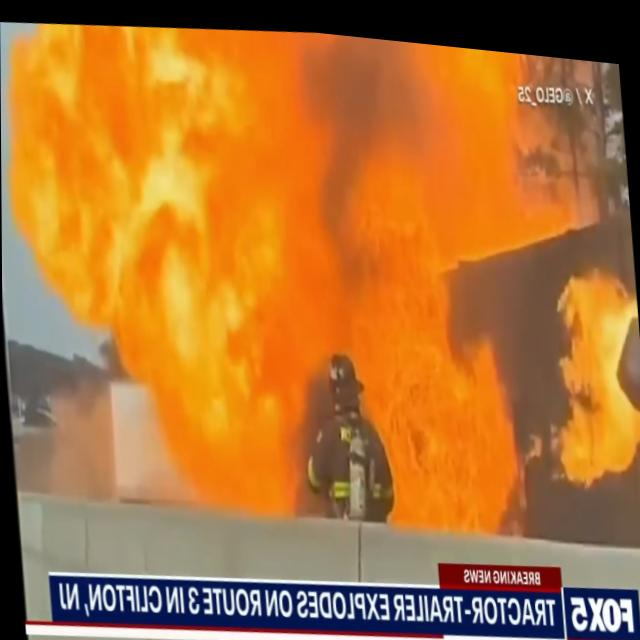Fire: (0, 0, 557, 544), (538, 252, 640, 478)
